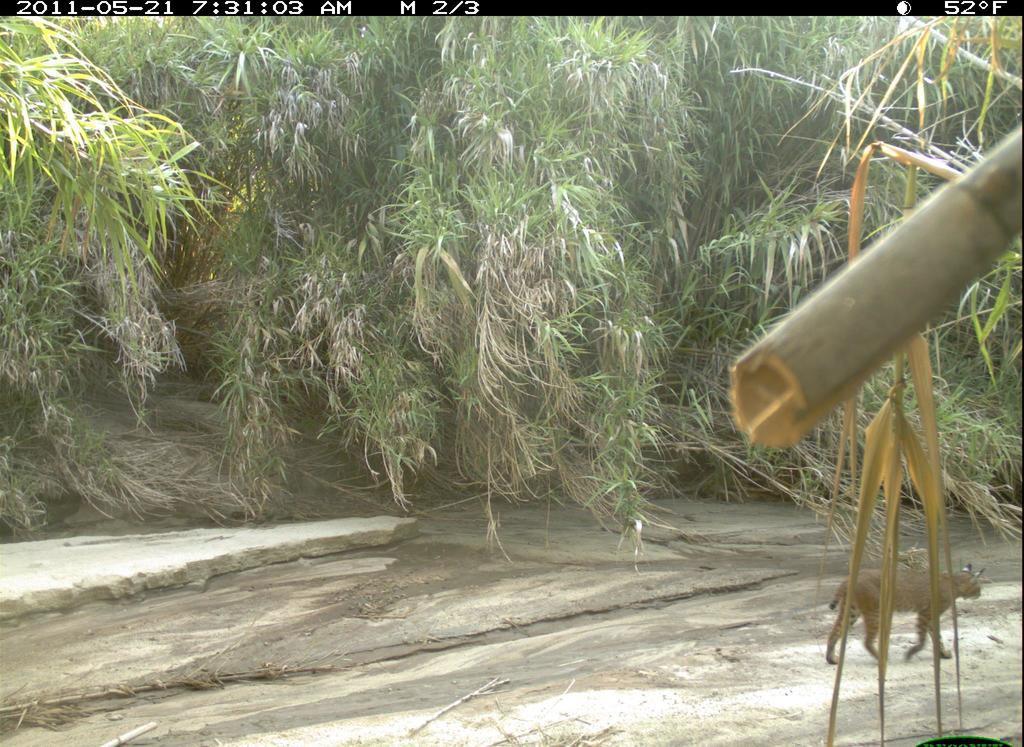bobcat: (822, 560, 993, 669)
